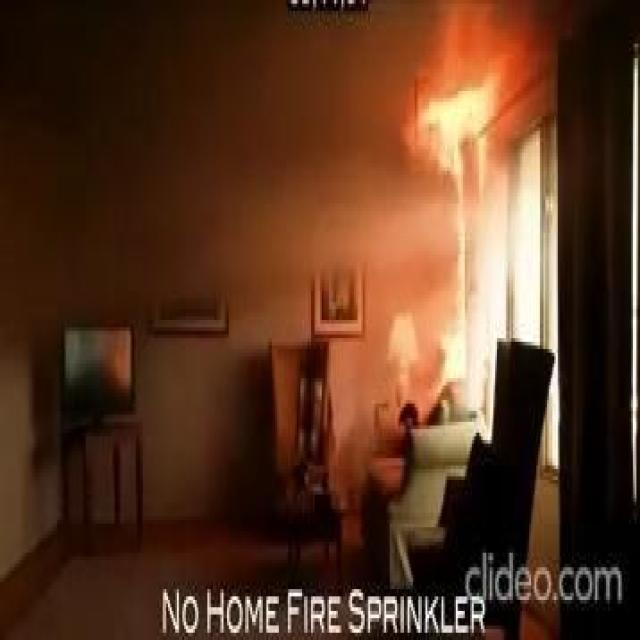smoke: (422, 90, 466, 378), (416, 76, 489, 138)
